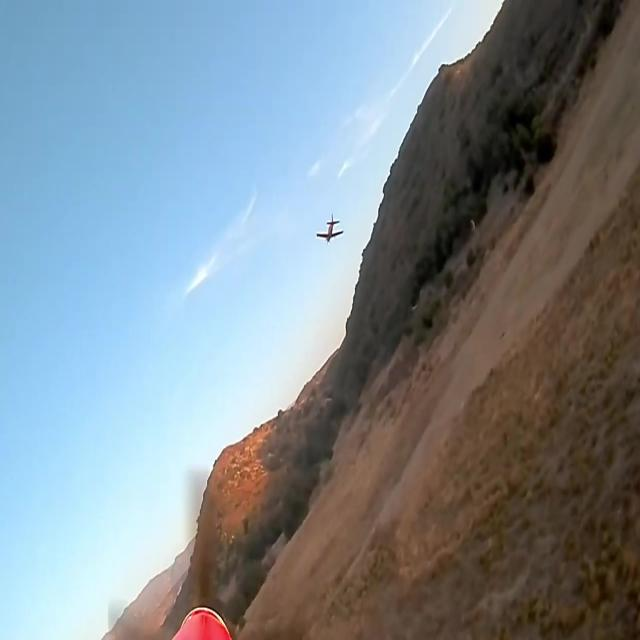iha: (309, 213, 338, 245)
